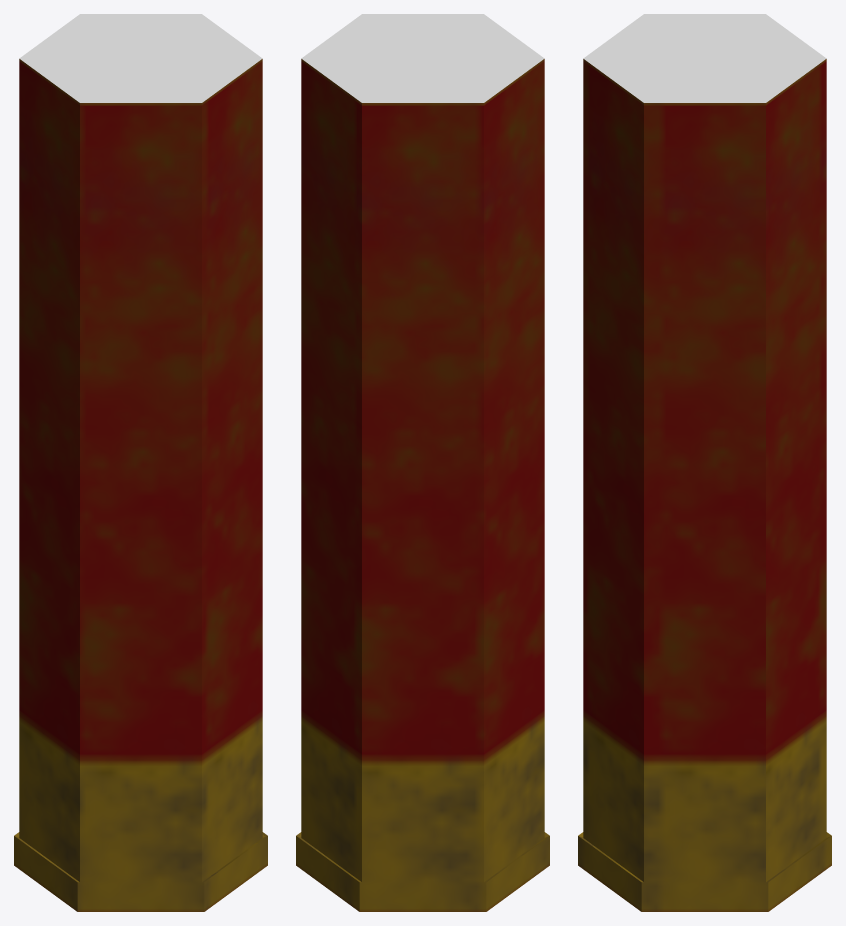
File: 12 Gauge.fbx
3 views of the same model, side by side, from view 1: azimuth 30°, elevation 25°; view 2: azimuth 150°, elevation 25°; view 3: azimuth 270°, elevation 25° (orthographic).
Parts seen in each view (by area): view 1: Shell, Primer; view 2: Shell, Primer; view 3: Shell, Primer.
Part boxes in pixels (x1,y1,x2,y2): Shell: (19, 14, 262, 882); Primer: (14, 832, 267, 911); Shell: (301, 14, 544, 882); Primer: (296, 832, 549, 911); Shell: (583, 14, 826, 882); Primer: (578, 832, 831, 911).
Bounding box in the file's own units: 3.77 × 15.28 × 4.36.
Materials: 3 (2 with a texture image).
